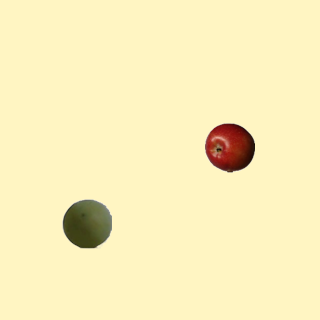Apple Braeburn: (204, 122, 254, 172)
Grape White 4: (61, 198, 111, 248)
